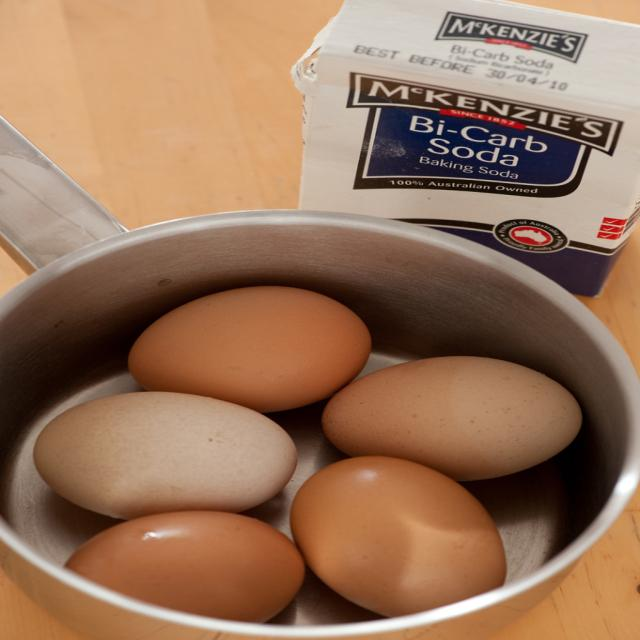Egg: (28, 284, 589, 618), (25, 385, 304, 510)
